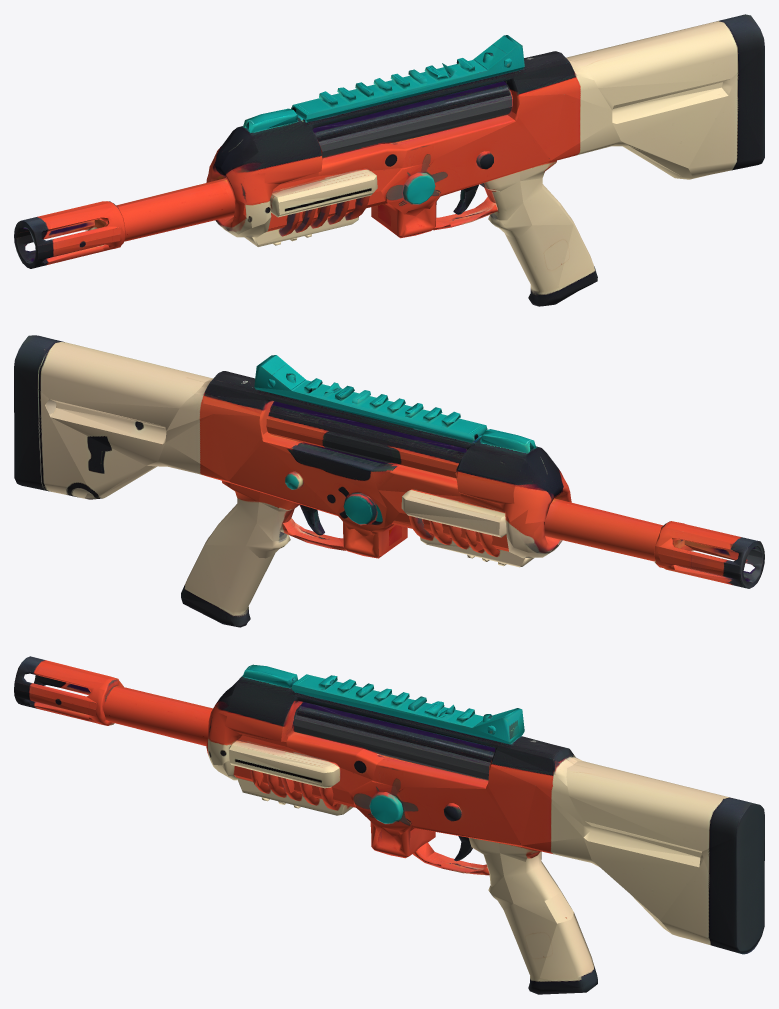
The picture shows the model from 3 angles, top to bottom: view 1: azimuth 30°, elevation 25°; view 2: azimuth 150°, elevation 25°; view 3: azimuth 330°, elevation 25°; orthographic projection.
Size of the model in its own units: 1 by 0.3564 by 0.1194.
1 material, 1 textured.
